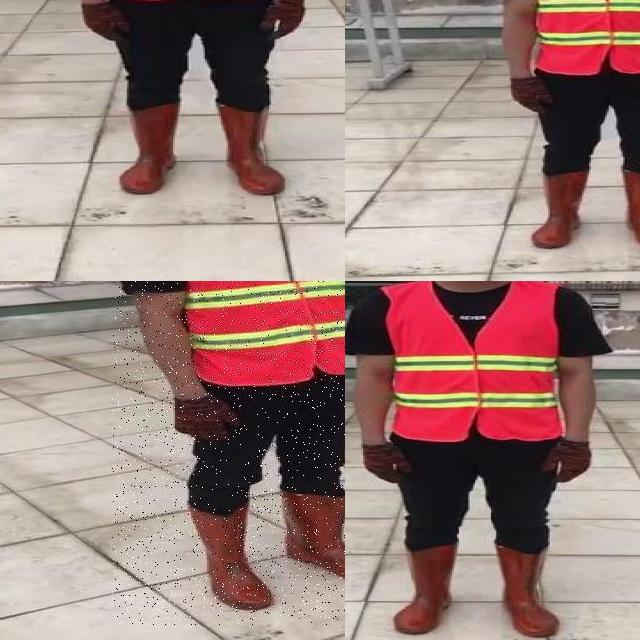boots: (187, 501, 275, 612), (493, 542, 562, 639), (216, 102, 286, 196), (392, 541, 458, 633), (283, 490, 345, 584), (116, 104, 180, 194), (531, 172, 589, 250), (621, 168, 640, 249)
hand_glove: (362, 443, 416, 485), (79, 1, 132, 40), (546, 439, 592, 483), (260, 0, 306, 42), (509, 76, 552, 115)
person: (345, 281, 606, 640), (112, 281, 345, 625), (74, 0, 323, 195), (501, 0, 640, 248)
vest: (382, 281, 565, 441), (180, 281, 345, 386), (529, 0, 640, 74)
